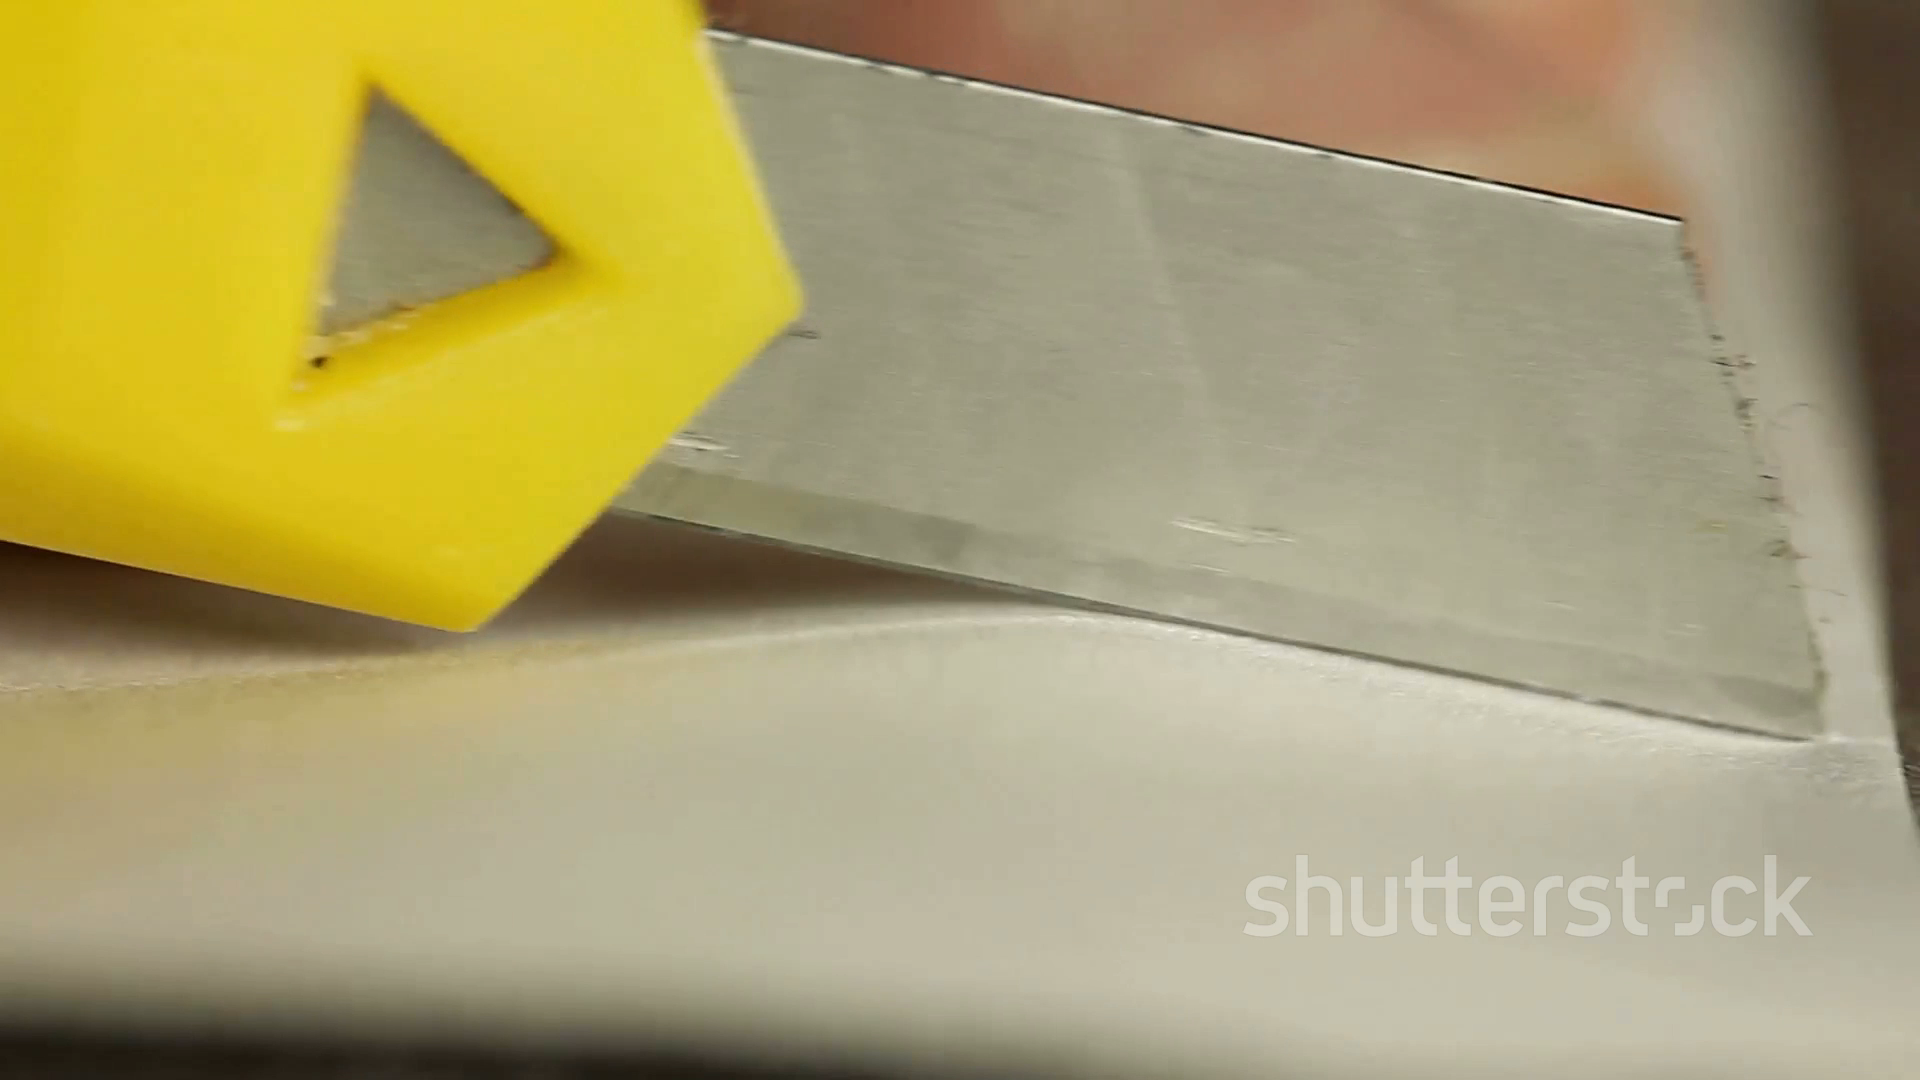cortante: (596, 26, 1826, 744)
